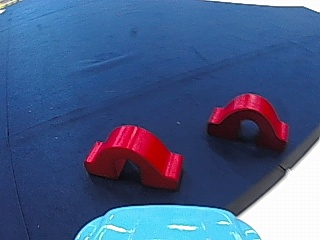bridge: (79, 119, 183, 186), (203, 88, 293, 148)
